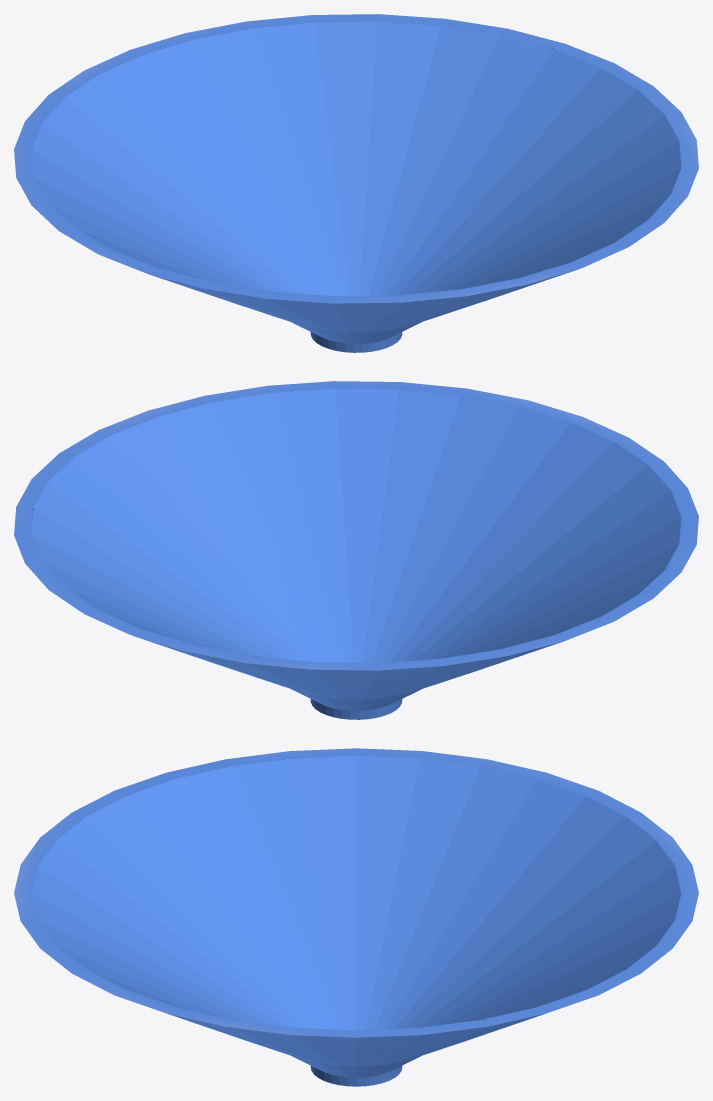
File: bowl.fbx
3 renders of one model, top to bottom at view 1: azimuth 30°, elevation 25°; view 2: azimuth 150°, elevation 25°; view 3: azimuth 270°, elevation 25°, orthographic.
Parts seen in each view (by area): view 1: Cylinder; view 2: Cylinder; view 3: Cylinder.
Boxes of the visible parts, x1,y1,x2,y2 form: Cylinder: [14, 14, 698, 352]; Cylinder: [14, 381, 698, 719]; Cylinder: [14, 748, 698, 1086].
Bounding box in the file's own units: 1495 × 420 × 1495.
1 material, 1 textured.
